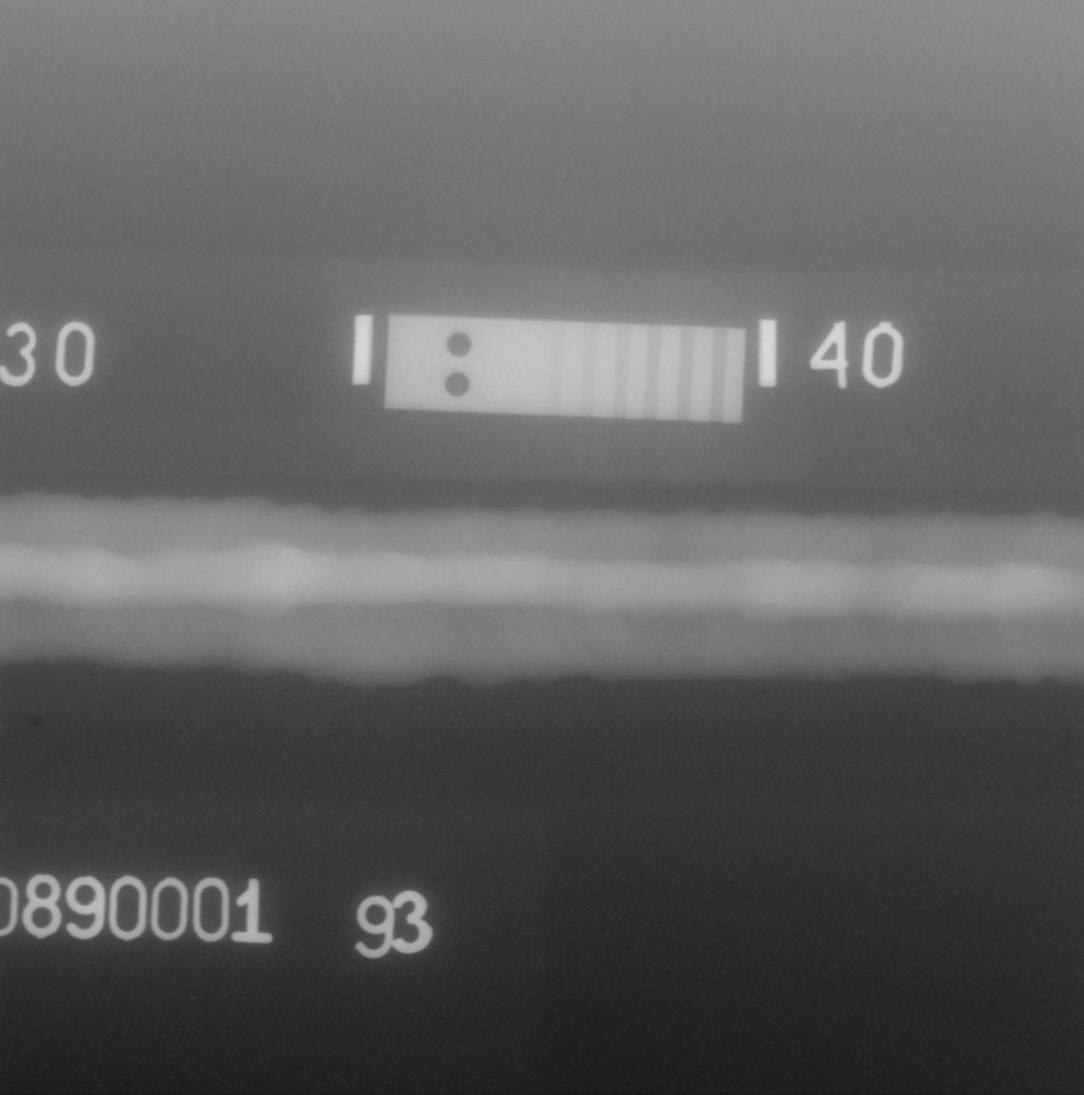Pore/Porosity: (493, 569, 498, 573)
Reference Standard 2: (384, 313, 746, 424)
